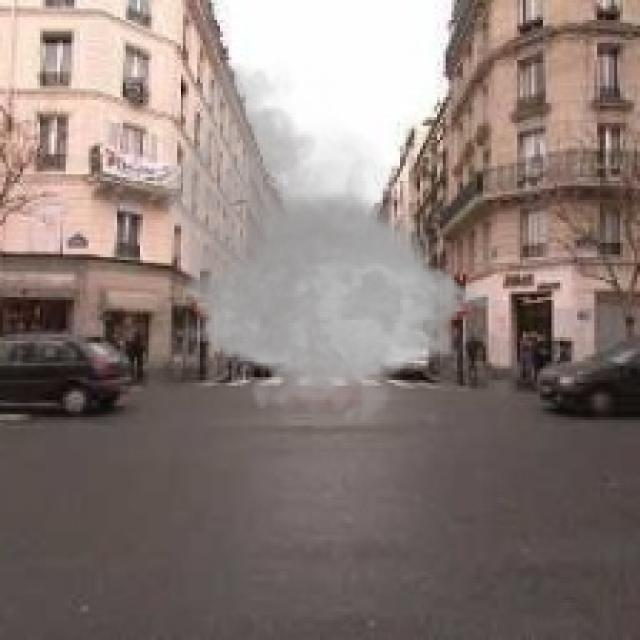Smoke: (145, 57, 518, 434)
